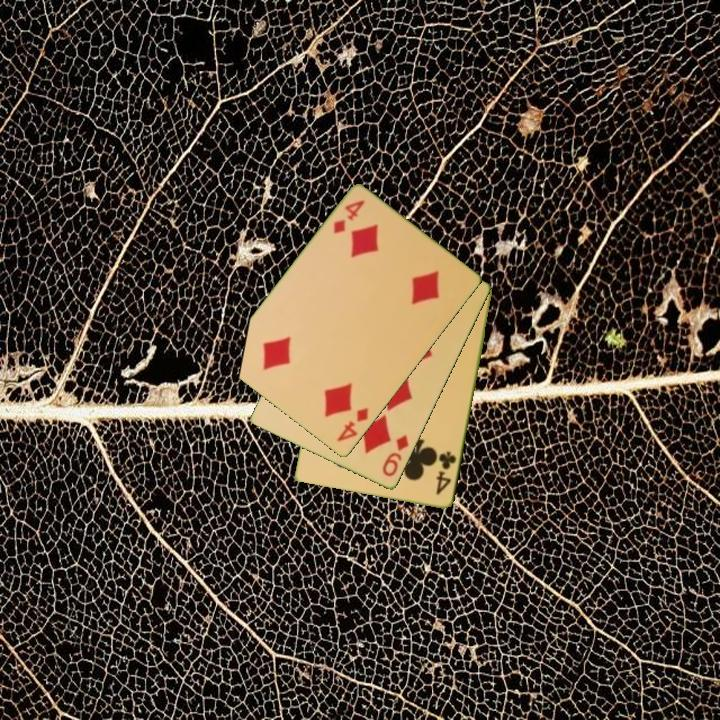4c: (433, 448, 459, 498)
4d: (333, 404, 371, 445), (330, 197, 368, 237)
9d: (379, 431, 412, 480)
